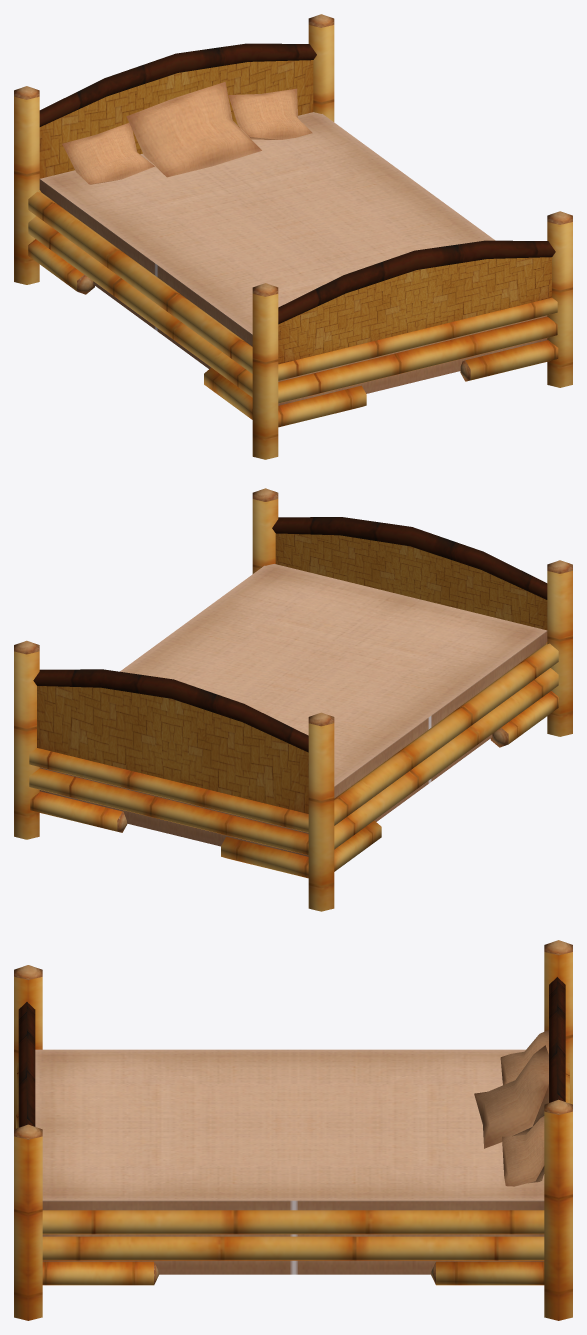
The model's file is Bamboo_Bed_01.FBX.
3 renders of one model, top to bottom at view 1: azimuth 30°, elevation 25°; view 2: azimuth 150°, elevation 25°; view 3: azimuth 270°, elevation 25°, orthographic. The views are drawn at different scales.
Visible parts, largest first — view 1: Bamboo_Bed_01; view 2: Bamboo_Bed_01; view 3: Bamboo_Bed_01.
Part boxes in pixels (bbox=[...]): Bamboo_Bed_01: bbox=[14, 14, 572, 459]; Bamboo_Bed_01: bbox=[14, 488, 572, 911]; Bamboo_Bed_01: bbox=[14, 940, 572, 1320].
Bounding box in the file's own units: 1.49 × 2.03 × 0.8599.
